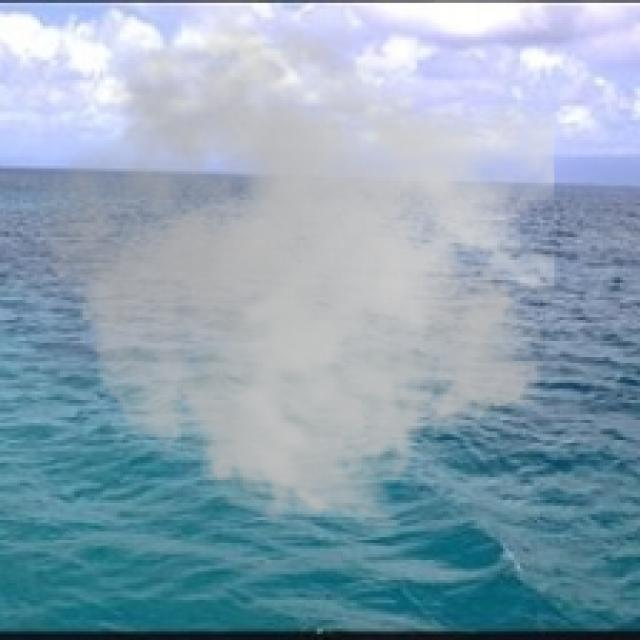Smoke: (37, 9, 554, 538)
